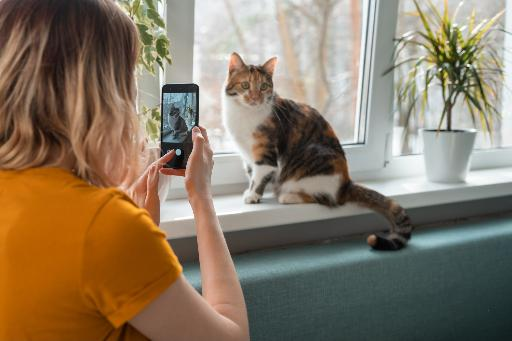cat_sitting: (222, 53, 412, 250)
